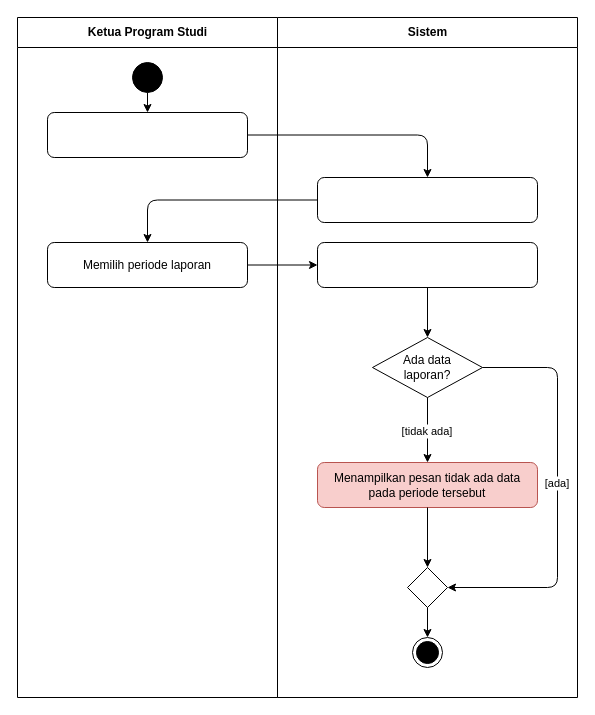
Image size: 595x715. Some labels were removed from this diagram. Here are the shapes that lost their labels. From the top down, the centre of each, then its label:
At point 147,135: "Membuka fungsi Lihat Laporan".
At point 427,199: "Menampilkan daftar periode laporan".
At point 427,265: "Menampilkan laporan periode terpilih".
